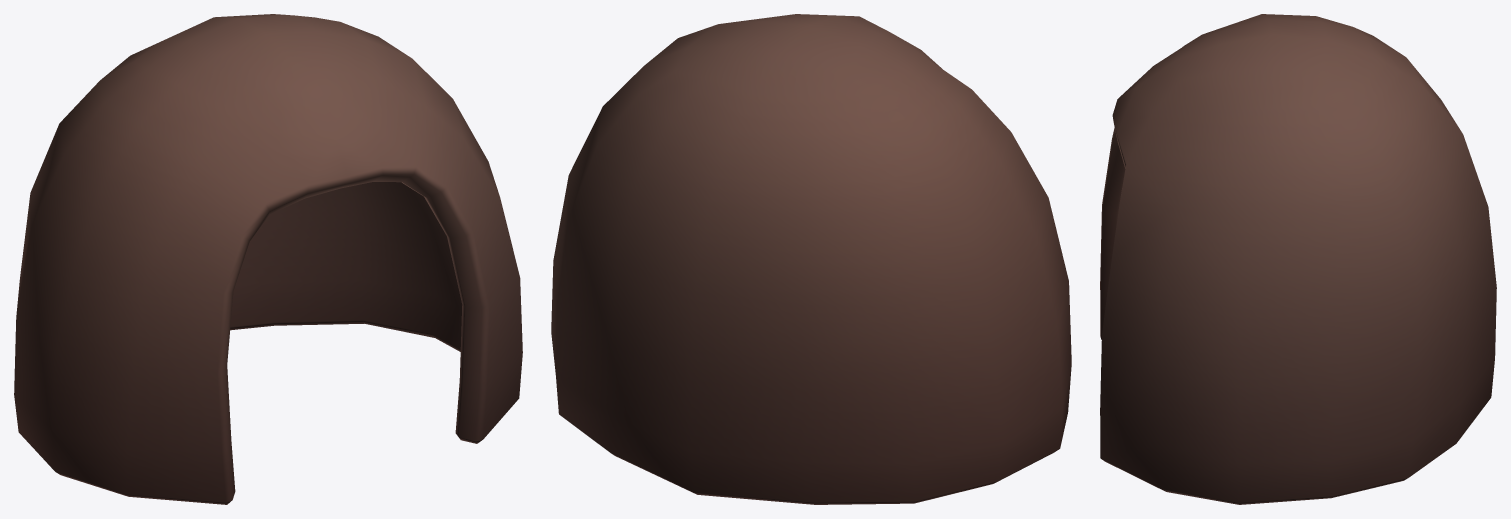
Rendered from Hairstyle_Female_05.glb.
3 renders of one model, left to right at view 1: azimuth 30°, elevation 25°; view 2: azimuth 150°, elevation 25°; view 3: azimuth 270°, elevation 25°, orthographic. The views are drawn at different scales.
Visible parts, largest first — view 1: Hairstyle_Female_05; view 2: Hairstyle_Female_05; view 3: Hairstyle_Female_05.
Part boxes in pixels (x1,y1,x2,y2): Hairstyle_Female_05: (14,14,522,504); Hairstyle_Female_05: (551,14,1071,504); Hairstyle_Female_05: (1100,14,1496,504).
Size of the model in its own units: 0.6933 by 0.5423 by 0.5302.
1 material, 1 textured.
